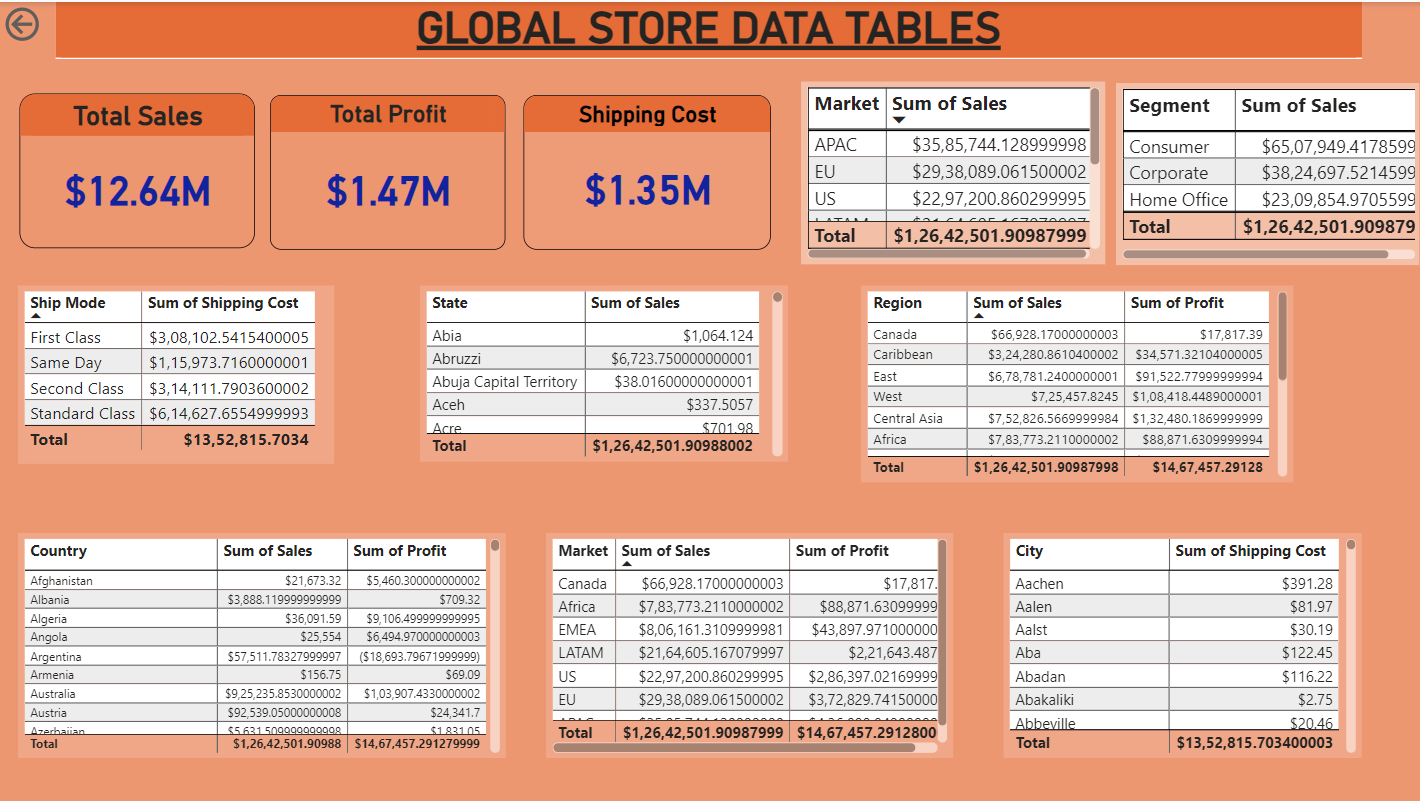

Layout of this report page (visuals, bound fields, positions):
{"tool":"powerbi","page":{"name":"data table","canvas":[1280,720],"ordinal":1},"visuals":[{"type":"card","title":"Total Sales","fields":{"Values":["Sum(Orders.Sales)"]},"box":[17.2,82.8,212.1,139.7],"z":1},{"type":"card","title":"Total Profit","fields":{"Values":["Sum(Orders.Profit)"]},"box":[243.8,83.3,212,139.3],"z":2},{"type":"card","title":"Shipping Cost","fields":{"Values":["Sum(Orders.Shipping Cost)"]},"box":[470.9,83.3,222.6,139.3],"z":3},{"type":"tableEx","fields":{"Values":["Orders.Market","Sum(Orders.Sales)"]},"box":[721.9,71.8,274,164.4],"z":5},{"type":"tableEx","fields":{"Values":["Orders.Segment","Sum(Orders.Sales)"]},"box":[1005.2,72.4,274.1,163.8],"z":6},{"type":"tableEx","fields":{"Values":["Orders.Ship Mode","Sum(Orders.Shipping Cost)"]},"box":[16.7,255.9,284.7,160.5],"z":8},{"type":"tableEx","fields":{"Values":["Orders.State","Sum(Orders.Sales)"]},"box":[378.6,255.9,331.6,159],"z":9},{"type":"tableEx","fields":{"Values":["Orders.Region","Sum(Orders.Sales)","Sum(Orders.Profit)"]},"box":[775.3,255.9,389.2,177.2],"z":10},{"type":"tableEx","fields":{"Values":["Orders.Country","Sum(Orders.Sales)","Sum(Orders.Profit)"]},"box":[16.7,478.5,439.1,202.9],"z":11},{"type":"actionButton","box":[0,0,100,40],"z":12},{"type":"tableEx","fields":{"Values":["Orders.City","Sum(Orders.Shipping Cost)"]},"box":[904,478.5,322.5,202.9],"z":13},{"type":"tableEx","fields":{"Values":["Orders.Market","Sum(Orders.Sales)","Sum(Orders.Profit)"]},"box":[492.1,478.5,366.4,202.9],"z":14},{"type":"textbox","title":"GLOBAL STORE DATA TABLES","box":[50,0,1176.5,51.5],"z":15}]}

Visuals, with their boxes in screenshot pixels (x1, y1, x2, y2), scaled from the page's 1280x720 canvas onto the 1420x801 screenshot:
"Total Sales" card: (19, 92, 254, 248)
"Total Profit" card: (270, 93, 506, 248)
"Shipping Cost" card: (522, 93, 769, 248)
tableEx - Orders.Market x Sum(Orders.Sales): (801, 80, 1105, 263)
tableEx - Orders.Segment x Sum(Orders.Sales): (1115, 81, 1419, 263)
tableEx - Orders.Ship Mode x Sum(Orders.Shipping Cost): (19, 285, 334, 463)
tableEx - Orders.State x Sum(Orders.Sales): (420, 285, 788, 462)
tableEx - Orders.Region x Sum(Orders.Sales): (860, 285, 1292, 482)
tableEx - Orders.Country x Sum(Orders.Sales): (19, 532, 506, 758)
actionButton: (0, 0, 111, 44)
tableEx - Orders.City x Sum(Orders.Shipping Cost): (1003, 532, 1361, 758)
tableEx - Orders.Market x Sum(Orders.Sales): (546, 532, 952, 758)
"GLOBAL STORE DATA TABLES" textbox: (55, 0, 1361, 57)
